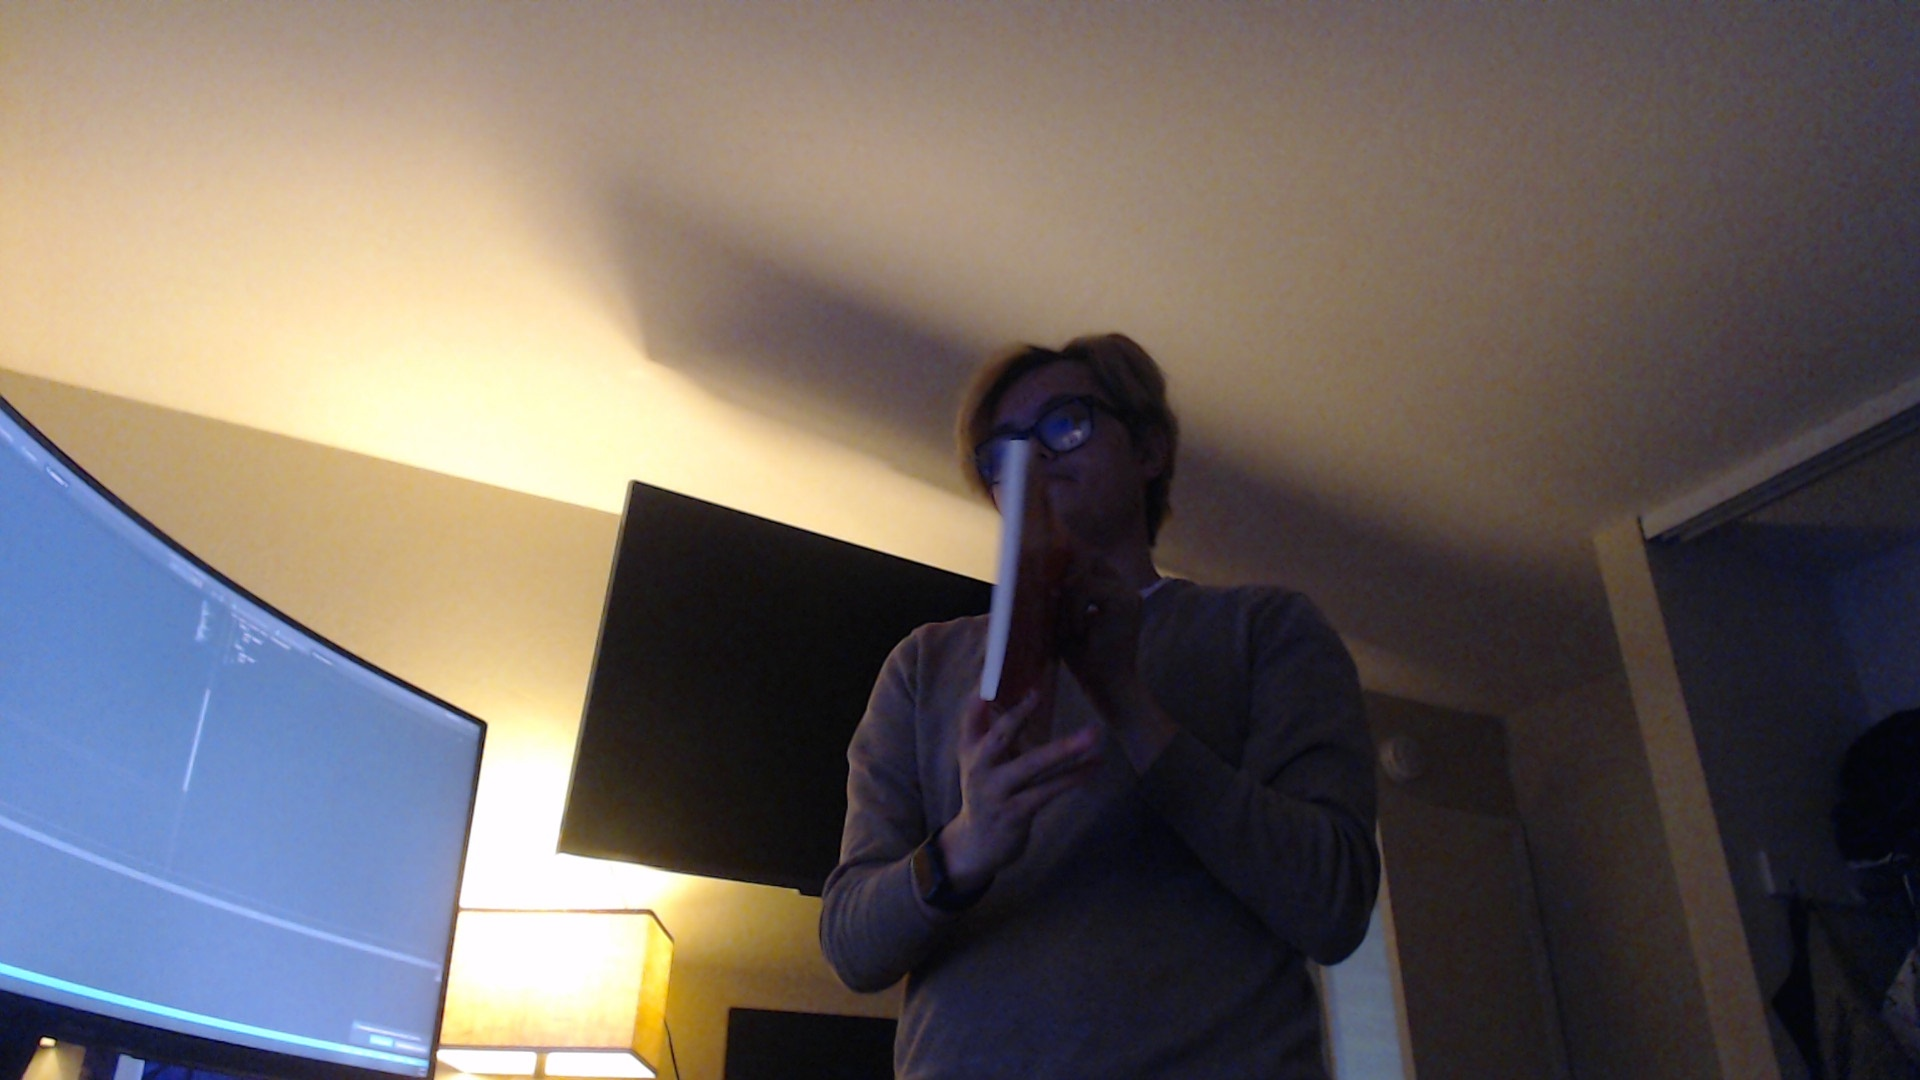book: (981, 435, 1054, 769)
